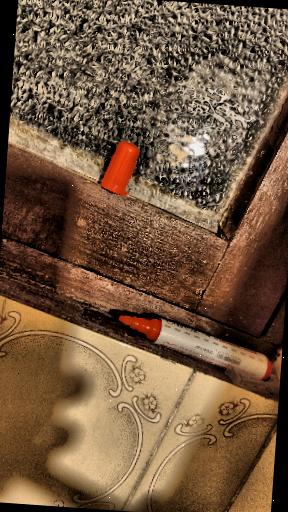marcador rojo: (118, 315, 272, 380)
